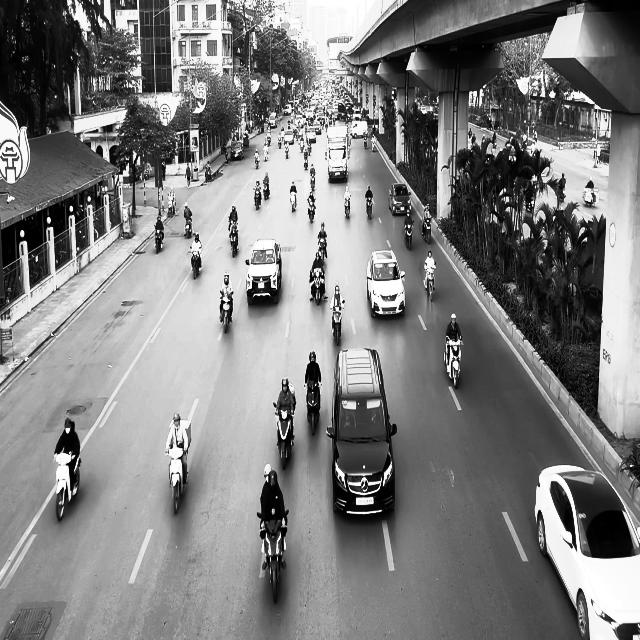car: (534, 463, 640, 640), (326, 346, 397, 516), (366, 249, 406, 318), (245, 238, 282, 305), (388, 183, 412, 215)
motorbike: (256, 508, 288, 604), (53, 451, 81, 521), (165, 444, 188, 514), (273, 400, 295, 470), (444, 336, 464, 388), (304, 381, 321, 436), (330, 300, 344, 344), (219, 292, 233, 333), (310, 267, 324, 305), (424, 263, 436, 301), (189, 246, 202, 279), (228, 224, 239, 257), (404, 219, 414, 250), (154, 225, 164, 254), (422, 218, 431, 244), (318, 236, 328, 259), (307, 198, 316, 222), (184, 215, 193, 238), (366, 196, 373, 219), (262, 180, 270, 200), (344, 196, 351, 218), (290, 190, 297, 212), (254, 189, 261, 210), (310, 170, 316, 190), (363, 131, 368, 149), (254, 154, 259, 168), (264, 144, 268, 161)
